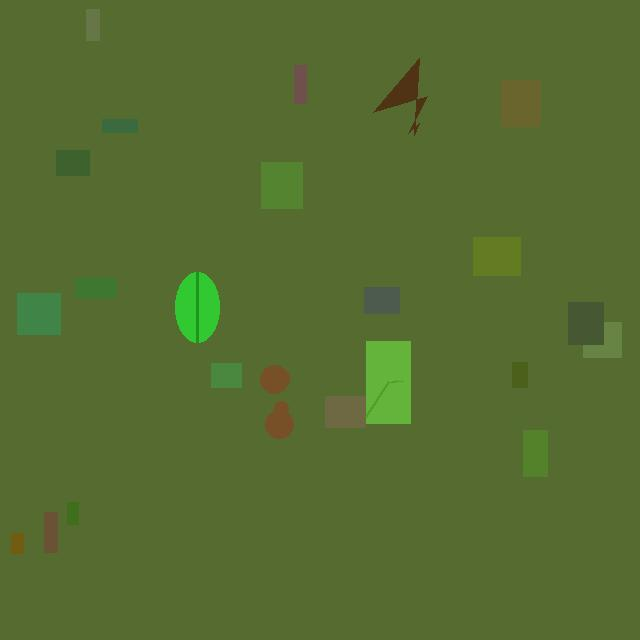disease: (370, 57, 439, 156)
healthy_crop: (174, 271, 219, 342)
pest_damage: (264, 351, 296, 445)
weed: (366, 340, 410, 424)
